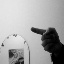g: (30, 26, 60, 54)
